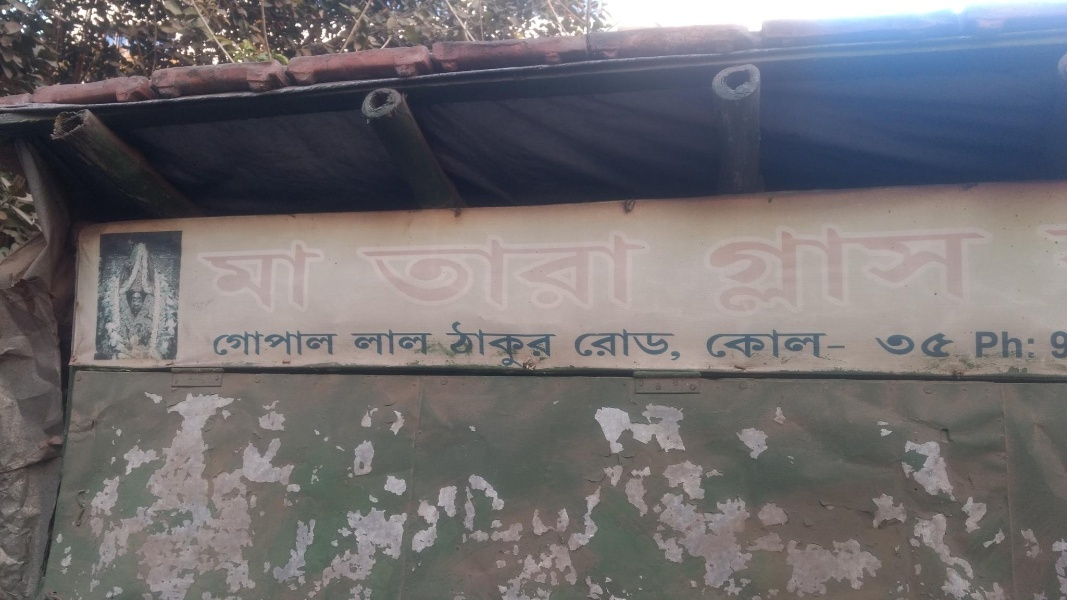text: (705, 220, 720, 319), (721, 220, 736, 319), (737, 220, 752, 319), (753, 220, 768, 319), (769, 220, 784, 319), (785, 220, 800, 319), (801, 220, 816, 319), (817, 220, 832, 319), (833, 220, 848, 319), (849, 220, 864, 319), (865, 220, 880, 319), (881, 220, 896, 319), (897, 220, 912, 319), (913, 220, 928, 319), (929, 220, 944, 319), (945, 220, 960, 319), (961, 220, 976, 319), (977, 220, 992, 319), (209, 238, 224, 319), (225, 238, 240, 319), (241, 238, 256, 319), (257, 238, 272, 319), (273, 238, 288, 319), (289, 238, 304, 319), (305, 238, 320, 319), (353, 229, 368, 309), (369, 229, 384, 309), (385, 229, 400, 309), (401, 229, 416, 309), (417, 229, 432, 309), (433, 229, 448, 309), (449, 229, 464, 309), (465, 229, 480, 309), (481, 229, 496, 309), (497, 229, 512, 309), (513, 229, 528, 309), (529, 229, 544, 309), (545, 229, 560, 309), (561, 229, 576, 309), (577, 229, 592, 309), (593, 229, 608, 309), (609, 229, 624, 309), (625, 229, 640, 309), (641, 229, 654, 309), (196, 238, 208, 319), (977, 316, 992, 366), (993, 316, 1008, 366), (1009, 316, 1024, 366), (1025, 316, 1040, 366), (449, 320, 464, 368), (465, 320, 480, 368), (481, 320, 496, 368), (497, 320, 512, 368), (513, 320, 528, 368), (529, 320, 544, 368), (545, 320, 560, 368), (945, 324, 961, 368), (881, 324, 896, 368), (897, 324, 912, 368), (913, 324, 928, 368), (929, 324, 944, 368), (673, 327, 689, 362), (577, 327, 592, 362), (593, 327, 608, 362), (609, 327, 624, 362), (625, 327, 640, 362), (641, 327, 656, 362), (657, 327, 672, 362), (225, 327, 240, 362), (241, 327, 256, 362), (257, 327, 272, 362), (273, 327, 288, 362), (289, 327, 304, 362), (305, 327, 320, 362), (321, 327, 336, 362), (353, 327, 368, 362), (369, 327, 384, 362), (385, 327, 400, 362), (401, 327, 416, 362), (417, 327, 432, 362), (721, 327, 736, 362), (737, 327, 752, 362), (753, 327, 768, 362), (769, 327, 784, 362), (785, 327, 800, 362), (801, 327, 816, 362), (817, 327, 832, 362), (833, 327, 848, 362), (1041, 316, 1051, 366), (321, 238, 327, 319), (993, 220, 997, 319), (1041, 220, 1056, 246), (213, 327, 224, 362), (561, 320, 569, 368), (1057, 314, 1065, 362), (873, 324, 880, 368), (712, 327, 720, 362), (1051, 314, 1056, 362), (1057, 220, 1066, 246), (702, 220, 704, 319), (973, 316, 976, 366), (337, 327, 341, 362), (433, 327, 436, 362), (1037, 220, 1040, 246), (575, 327, 576, 362), (849, 327, 850, 362)
